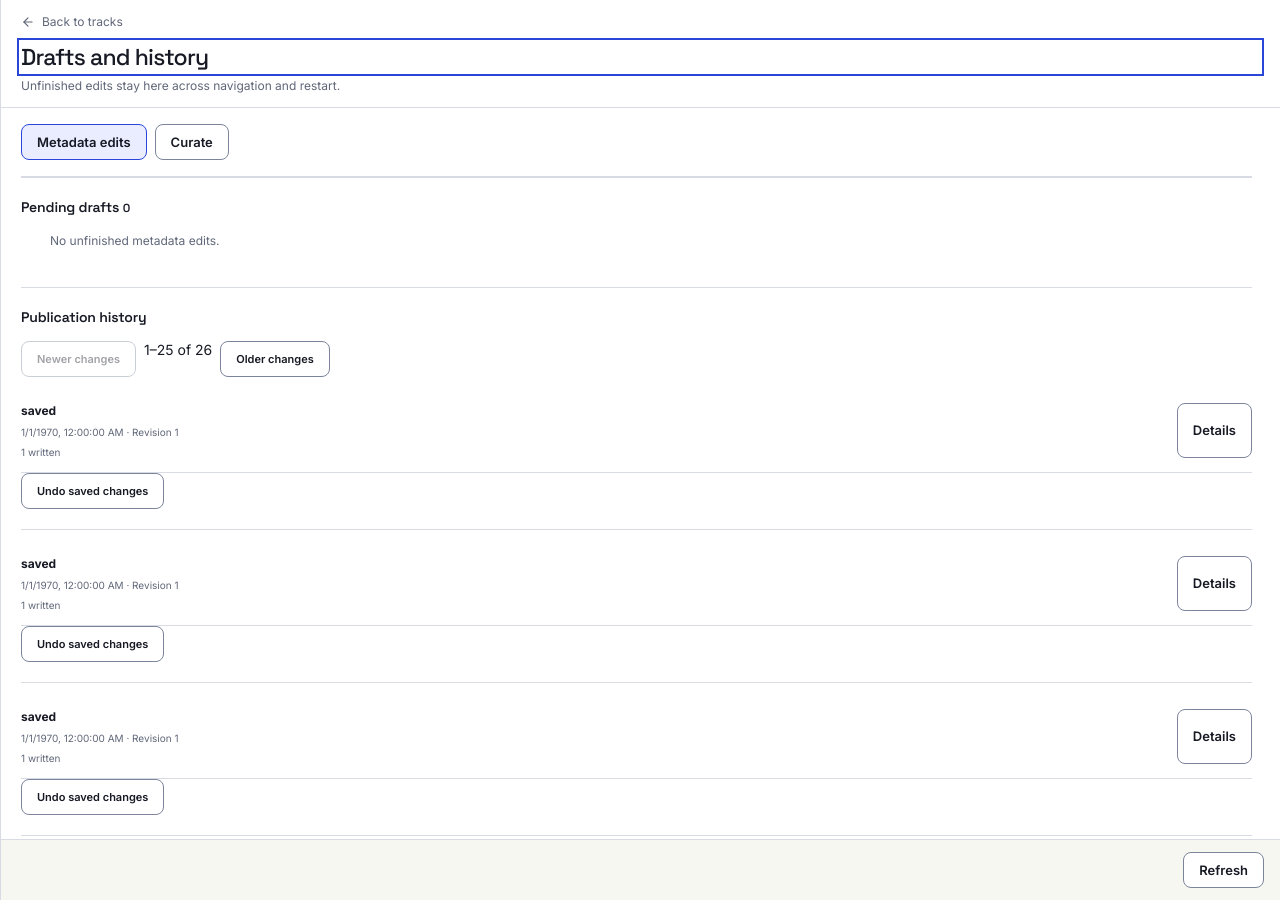
paged metadata history › pages lightweight summaries and reads full native detail only when requested
This screenshot has width=1280, height=900.
Check: the text "1–25 of 26" is shown, box [144,341,212,358]
Check: the text "Private row 25" is not shown
Click the 1st button "Details".
click(1214, 430)  # box [1177,403,1252,458]
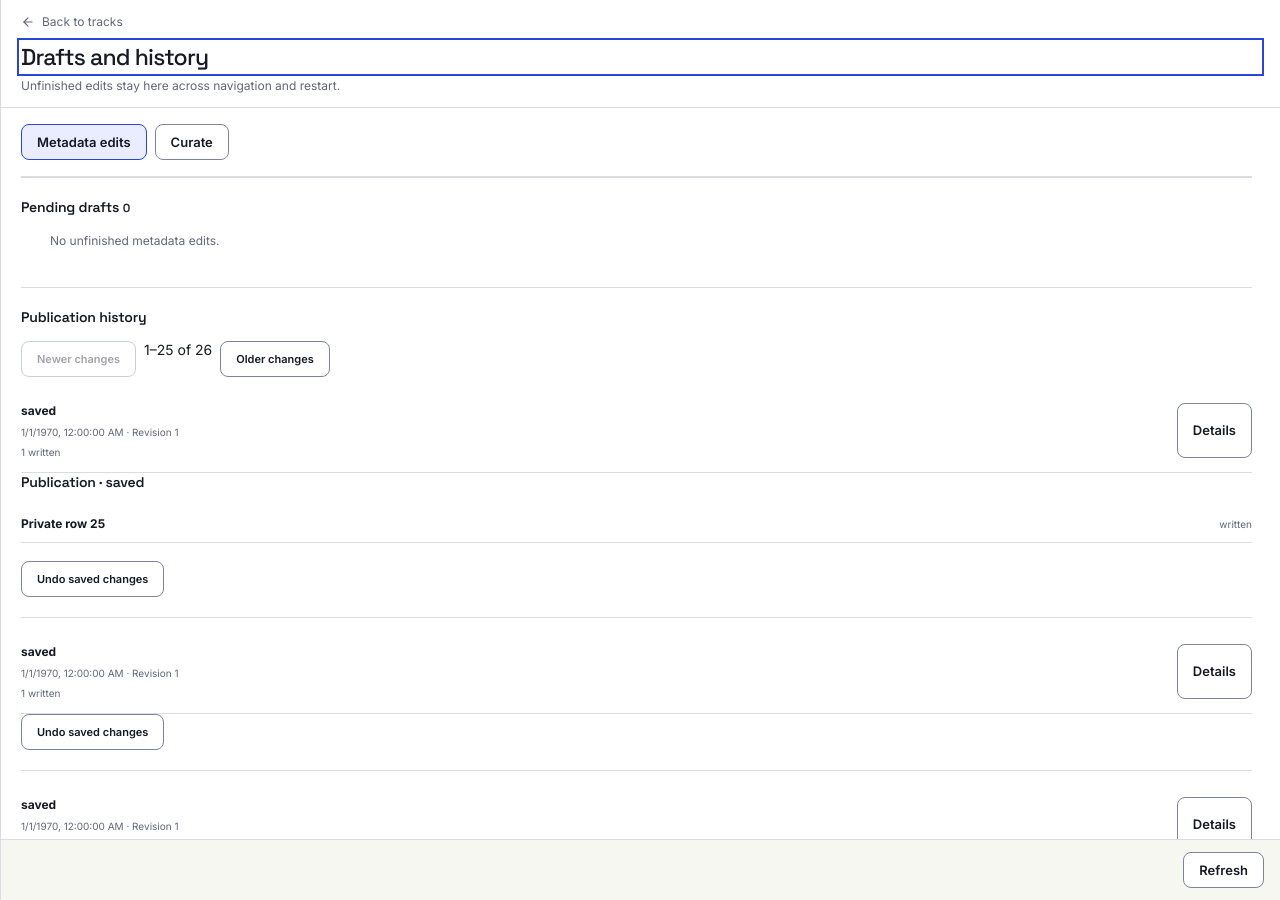
Check: the text "Private row 25" is shown, box [21,516,105,531]
Click the button "Older changes".
click(275, 359)  # box [220,341,330,377]
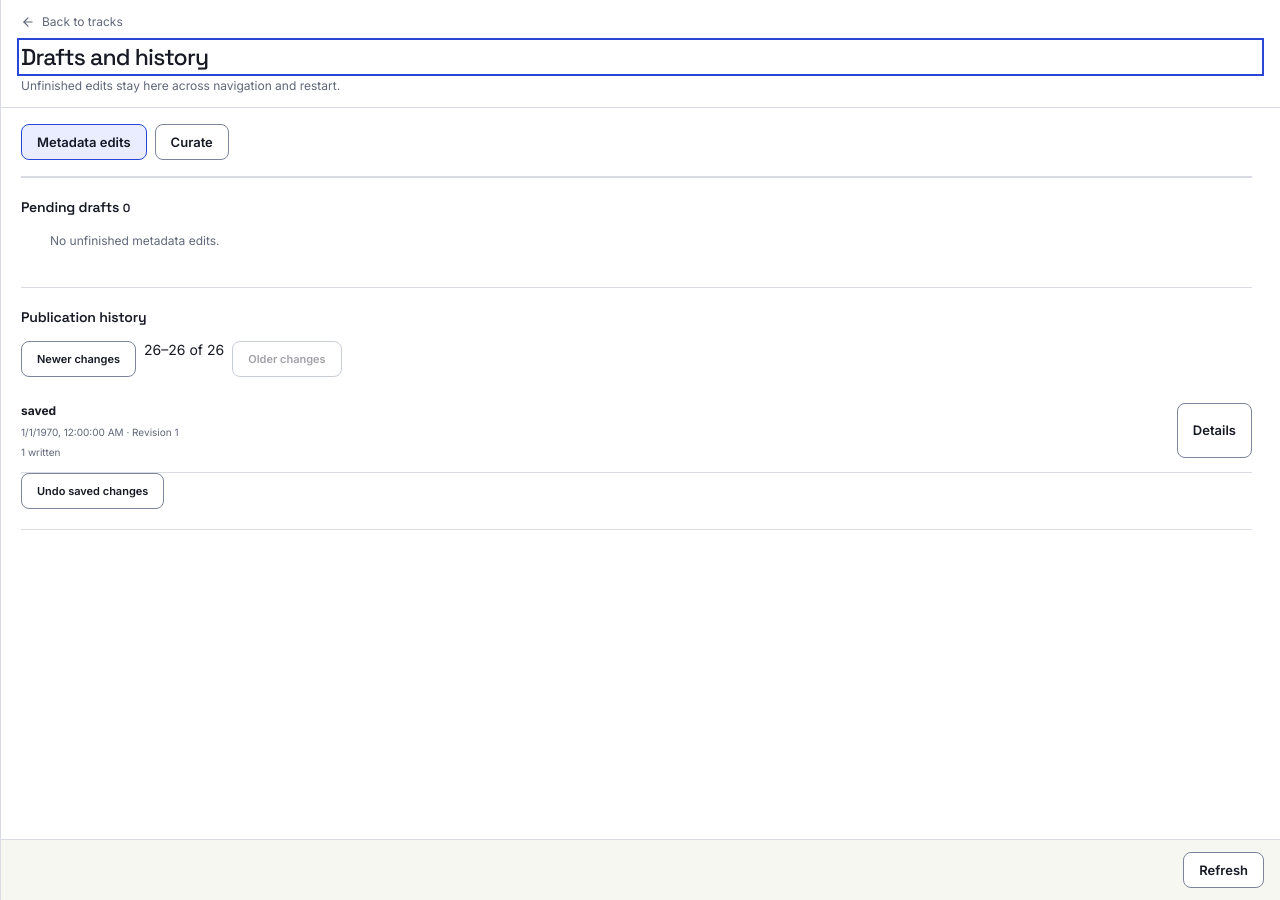
Check: the text "26–26 of 26" is shown, box [144,341,224,358]
Check: the heading "Private row 25" is gone
Check: the button "Older changes" is disabled, box [232,341,342,377]
Click the button "Newer changes".
click(78, 359)  # box [21,341,136,377]
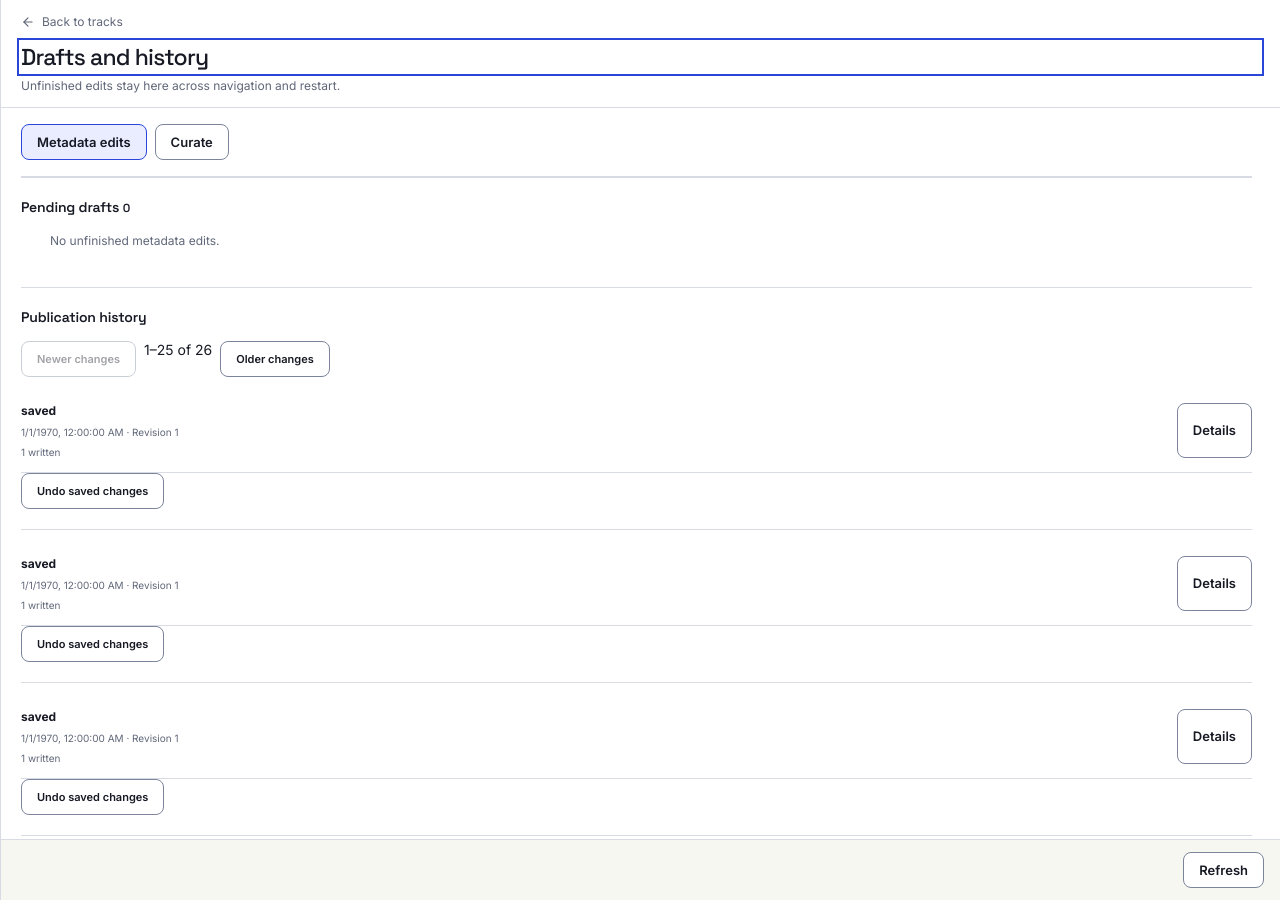
Check: the text "1–25 of 26" is shown, box [144,341,212,358]
